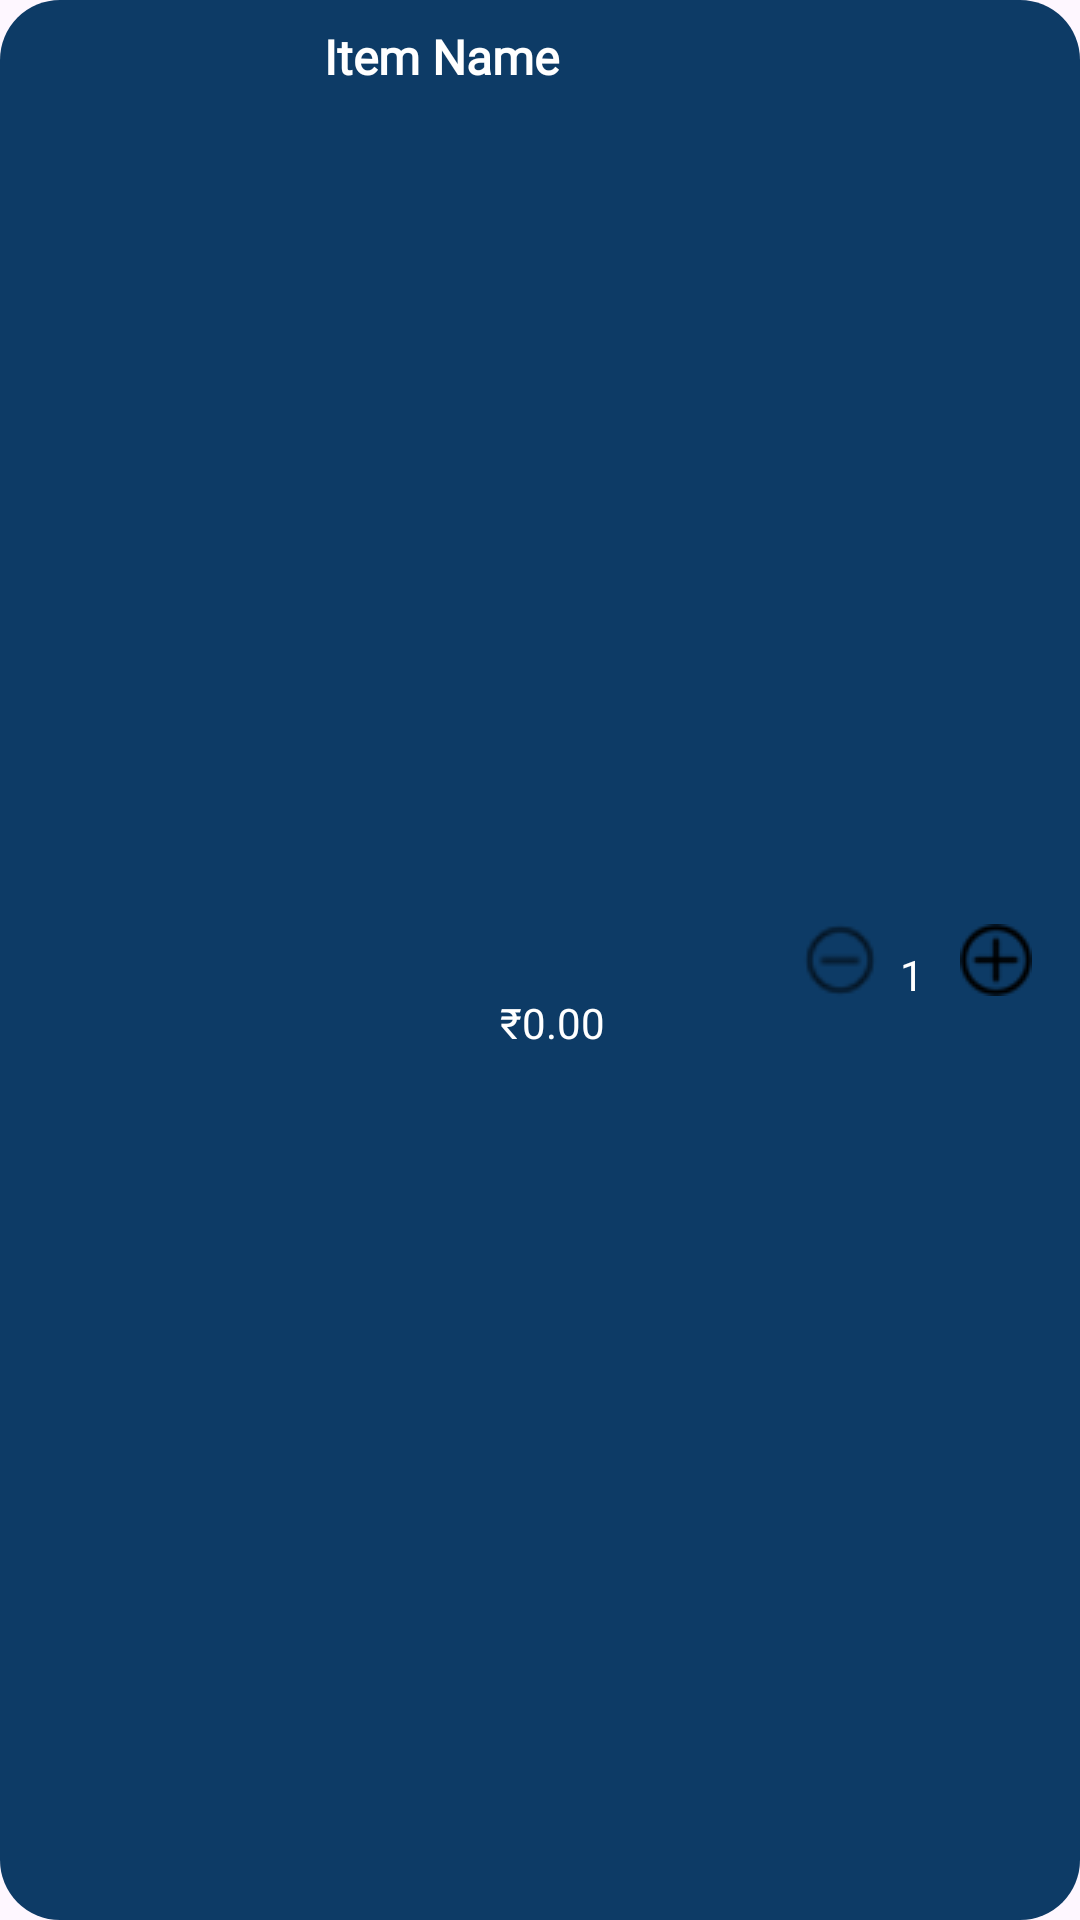

Named icons in this screenshot (1080×1920) and their centers, point (x, y):
add: point (996, 960)
minus: point (840, 960)
